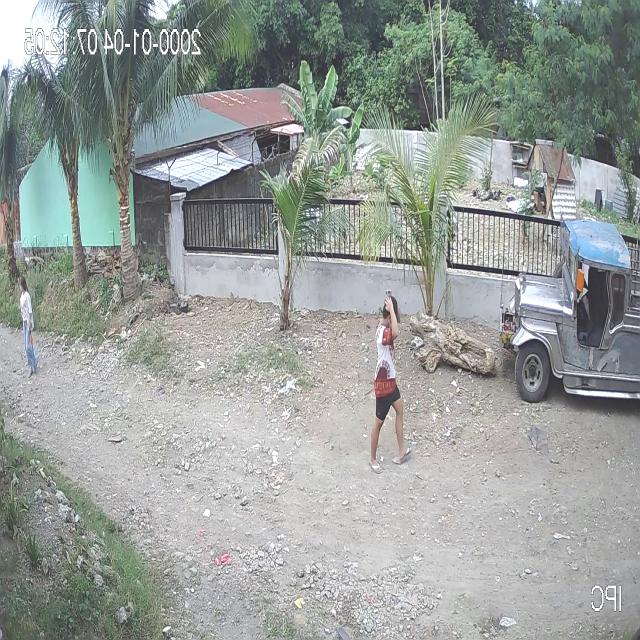walking: (368, 287, 414, 476), (16, 272, 40, 382)
